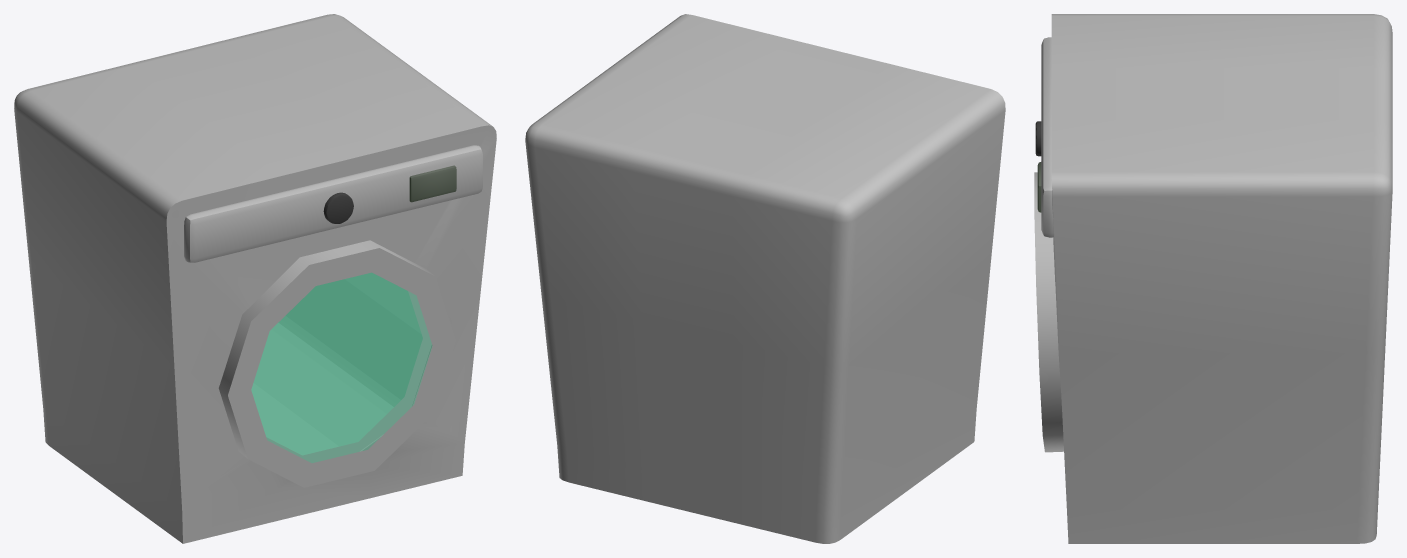
File: Washing Machine Round Door.fbx
The picture shows the model from 3 angles, left to right: view 1: azimuth 30°, elevation 25°; view 2: azimuth 150°, elevation 25°; view 3: azimuth 270°, elevation 25°; orthographic projection. The views are drawn at different scales.
Visible parts, largest first — view 1: Fridge Top Door, Cylinder003, Box001, Box002, Cylinder002; view 2: Fridge Top Door; view 3: Fridge Top Door, Cylinder003, Box001.
Boxes of the visible parts, bbox=[...] form: Fridge Top Door: bbox=[14, 14, 496, 543]; Cylinder003: bbox=[218, 240, 455, 487]; Box001: bbox=[184, 145, 482, 262]; Box002: bbox=[409, 165, 456, 202]; Cylinder002: bbox=[323, 192, 353, 223]; Fridge Top Door: bbox=[525, 14, 1005, 543]; Fridge Top Door: bbox=[1051, 14, 1392, 543]; Cylinder003: bbox=[1034, 172, 1063, 452]; Box001: bbox=[1041, 37, 1053, 237].
Bounding box in the file's own units: 53.74 × 54.77 × 47.07.
